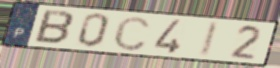0: (75, 12, 112, 49)
2: (229, 25, 263, 62)
4: (151, 18, 184, 55)
B: (32, 8, 76, 46)
C: (111, 15, 153, 52)
I: (198, 20, 222, 58)
